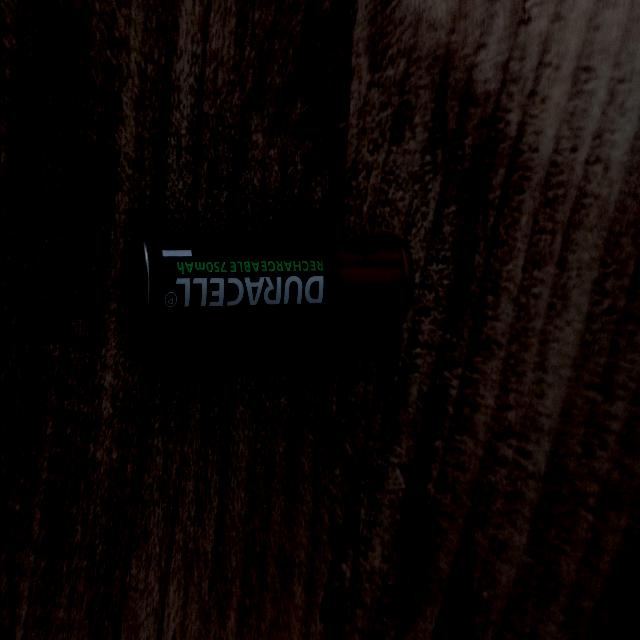AA: (128, 233, 416, 333)
